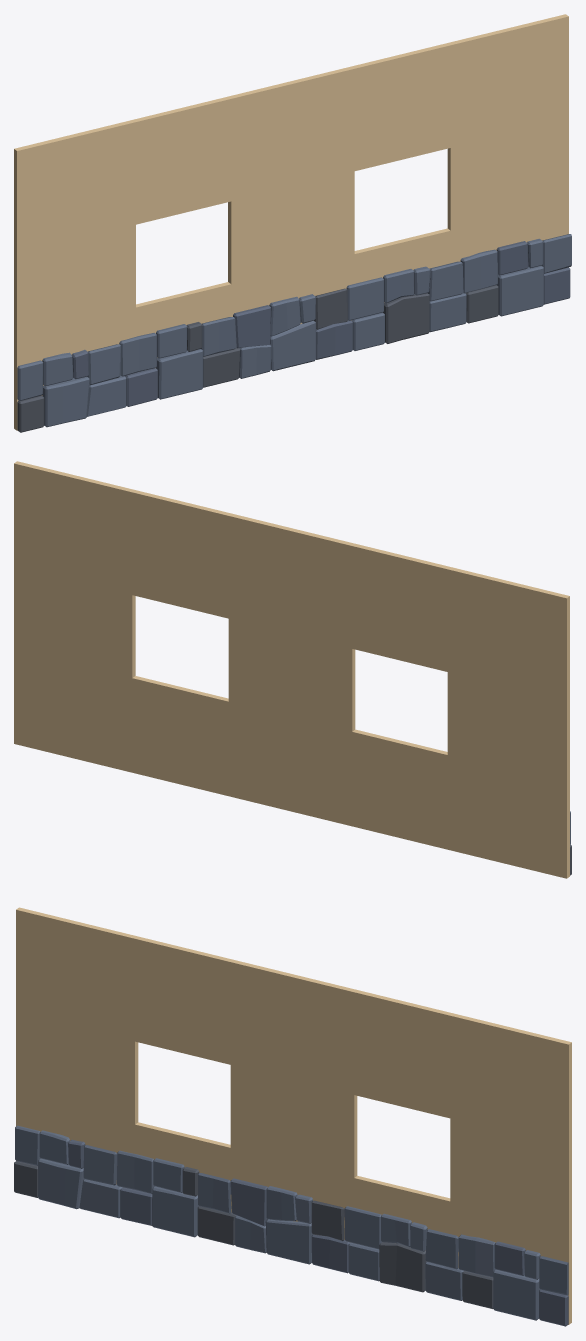
File: Wall_01_Window.fbx
The picture shows the model from 3 angles, top to bottom: view 1: azimuth 30°, elevation 25°; view 2: azimuth 150°, elevation 25°; view 3: azimuth 330°, elevation 25°; orthographic projection.
Parts seen in each view (by area): view 1: Wall_01_Window; view 2: Wall_01_Window; view 3: Wall_01_Window.
Boxes of the visible parts, bbox=[...] form: Wall_01_Window: bbox=[14, 14, 571, 432]; Wall_01_Window: bbox=[14, 461, 571, 878]; Wall_01_Window: bbox=[14, 907, 571, 1326].
Bounding box in the file's own units: 575 × 279 × 13.85.
